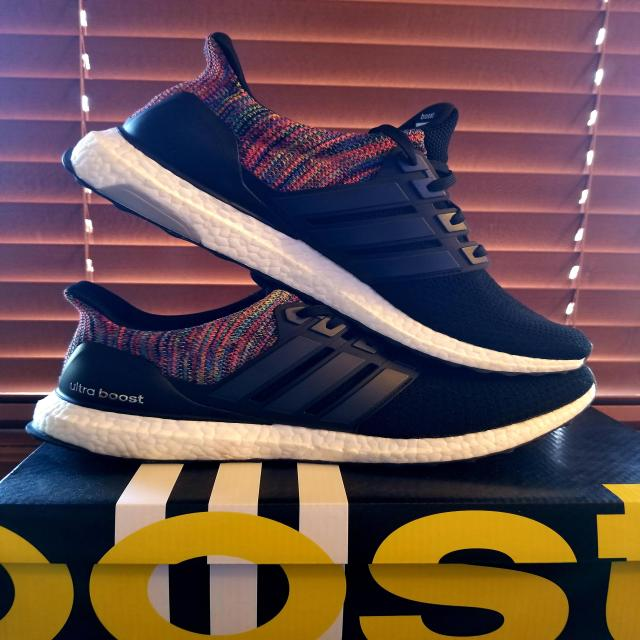shoes: (62, 24, 608, 384), (13, 260, 606, 489)
